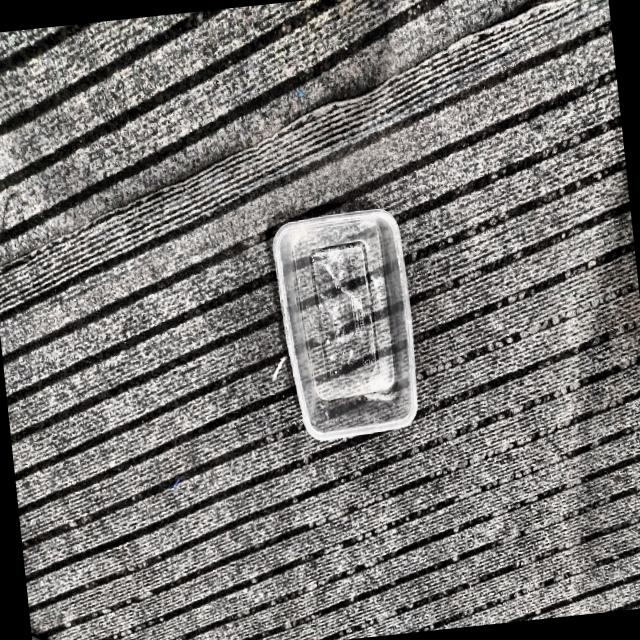plastic container: (273, 208, 417, 439)
